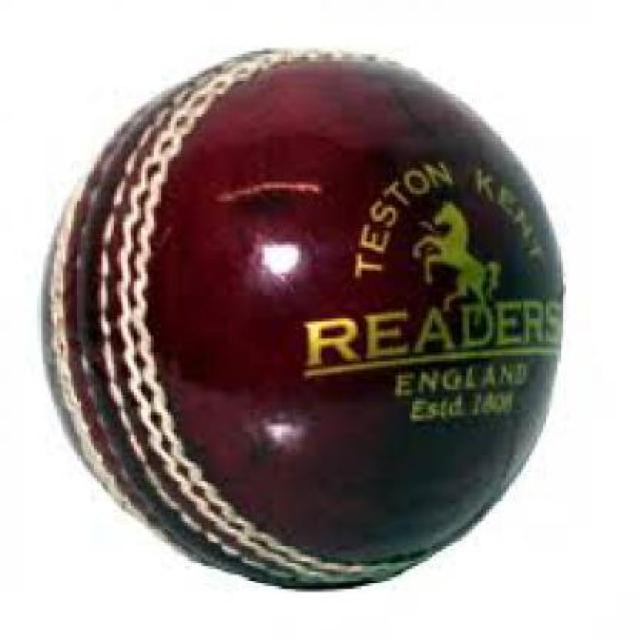ball: (25, 21, 640, 634)
